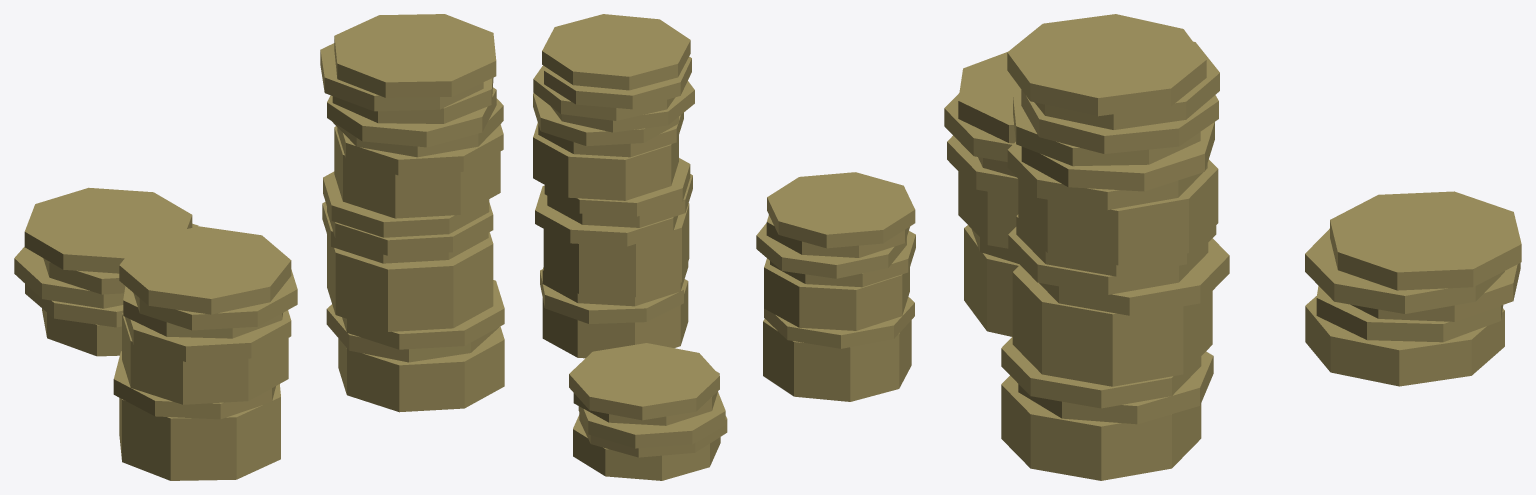
The model's file is fantasy_coin_stack.fbx.
The picture shows the model from 3 angles, left to right: view 1: azimuth 30°, elevation 25°; view 2: azimuth 150°, elevation 25°; view 3: azimuth 270°, elevation 25°; orthographic projection. The views are drawn at different scales.
Visible parts, largest first — view 1: Cylinder.037; view 2: Cylinder.037; view 3: Cylinder.037.
Boxes of the visible parts, bbox=[...] form: Cylinder.037: bbox=[14, 14, 504, 480]; Cylinder.037: bbox=[533, 14, 915, 480]; Cylinder.037: bbox=[944, 14, 1521, 480].
Size of the model in its own units: 26.2 by 21 by 28.87.
